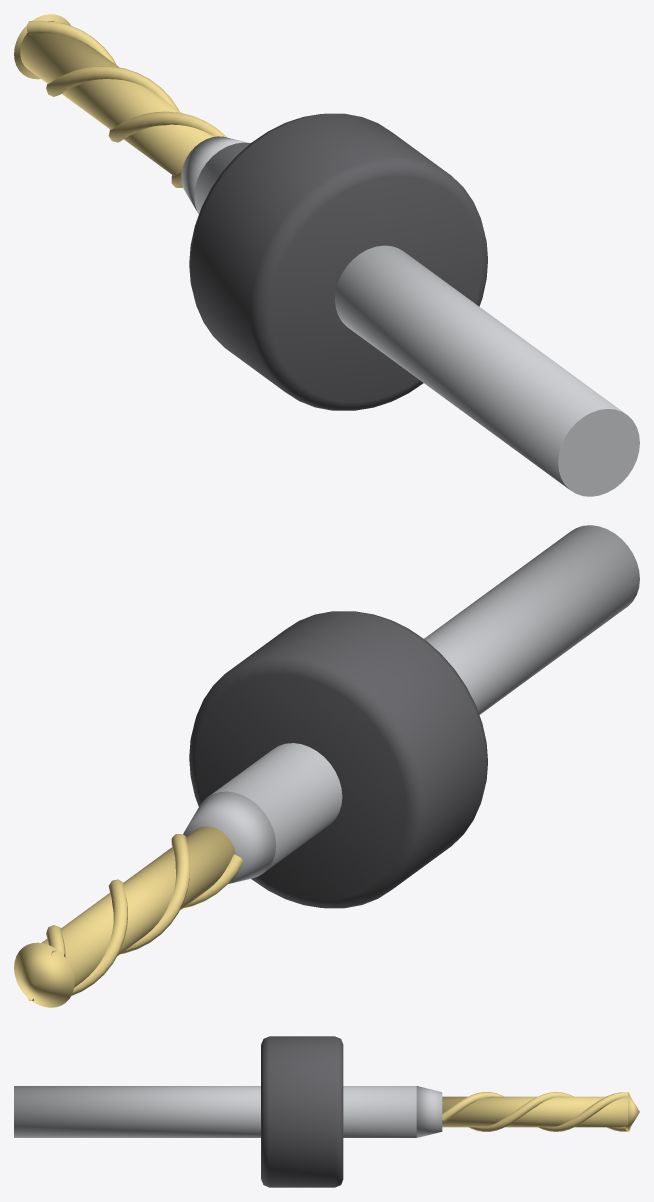
Rendered from drill18_2p4.glb.
3 renders of one model, top to bottom at view 1: azimuth 30°, elevation 25°; view 2: azimuth 150°, elevation 25°; view 3: azimuth 270°, elevation 25°, orthographic. The views are drawn at different scales.
Visible parts, largest first — view 1: Cylinder.002, Cylinder.001, Cylinder, flute, flute.001, Cone; view 2: Cylinder.002, Cylinder.001, Cylinder, Cone, Cone.001, flute.001, flute; view 3: Cylinder.001, Cylinder.002, Cylinder, Cone, flute, flute.001, Cone.001.
Boxes of the visible parts, box(x1,y1,x2,y2) form: Cylinder.002: box(189, 113, 487, 410); Cylinder.001: box(194, 142, 639, 496); Cylinder: box(20, 21, 213, 178); flute: box(27, 20, 227, 142); flute.001: box(46, 66, 182, 187); Cone: box(181, 136, 249, 210); Cylinder.002: box(189, 611, 487, 908); Cylinder.001: box(208, 525, 639, 872); Cylinder: box(41, 826, 235, 987); Cone: box(183, 791, 275, 883); Cone.001: box(14, 942, 74, 1007); flute.001: box(27, 854, 243, 1000); flute: box(46, 834, 190, 957); Cylinder.001: box(14, 1086, 416, 1137); Cylinder.002: box(261, 1036, 343, 1187); Cylinder: box(442, 1096, 627, 1127); Cone: box(416, 1086, 442, 1137); flute: box(442, 1092, 630, 1131); flute.001: box(469, 1092, 630, 1131); Cone.001: box(628, 1093, 639, 1130).
Bounding box in the file's own units: 0.00917 × 0.00917 × 0.038.
